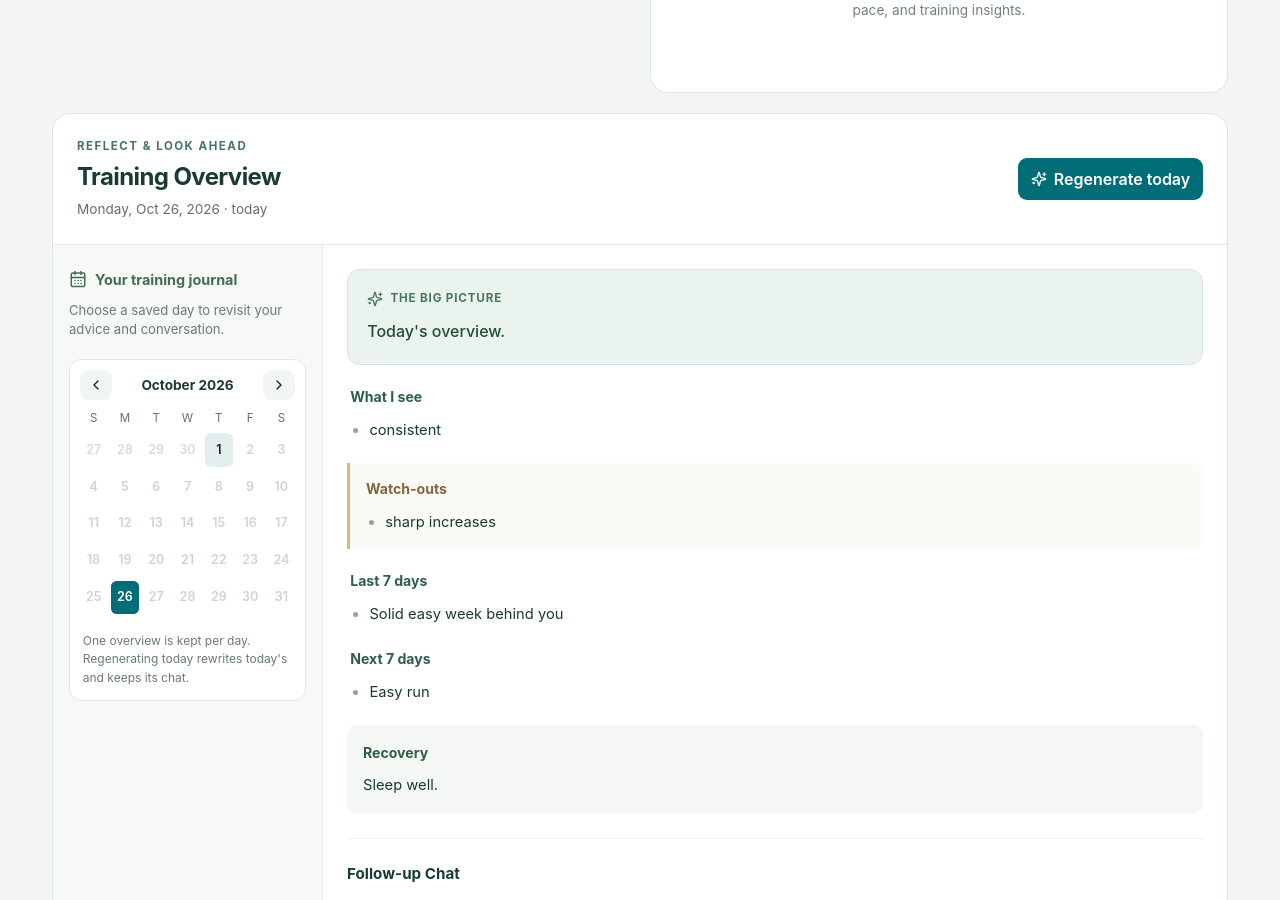
App › browses stored overviews by day and shows each day's saved chat
The image size is (1280, 900).
(page scrolled)
Expected: the text "Today's overview." is shown, [367,321,505,341]
Click the button "1".
click(219, 450)  # box [205,433,233,467]
(page scrolled)
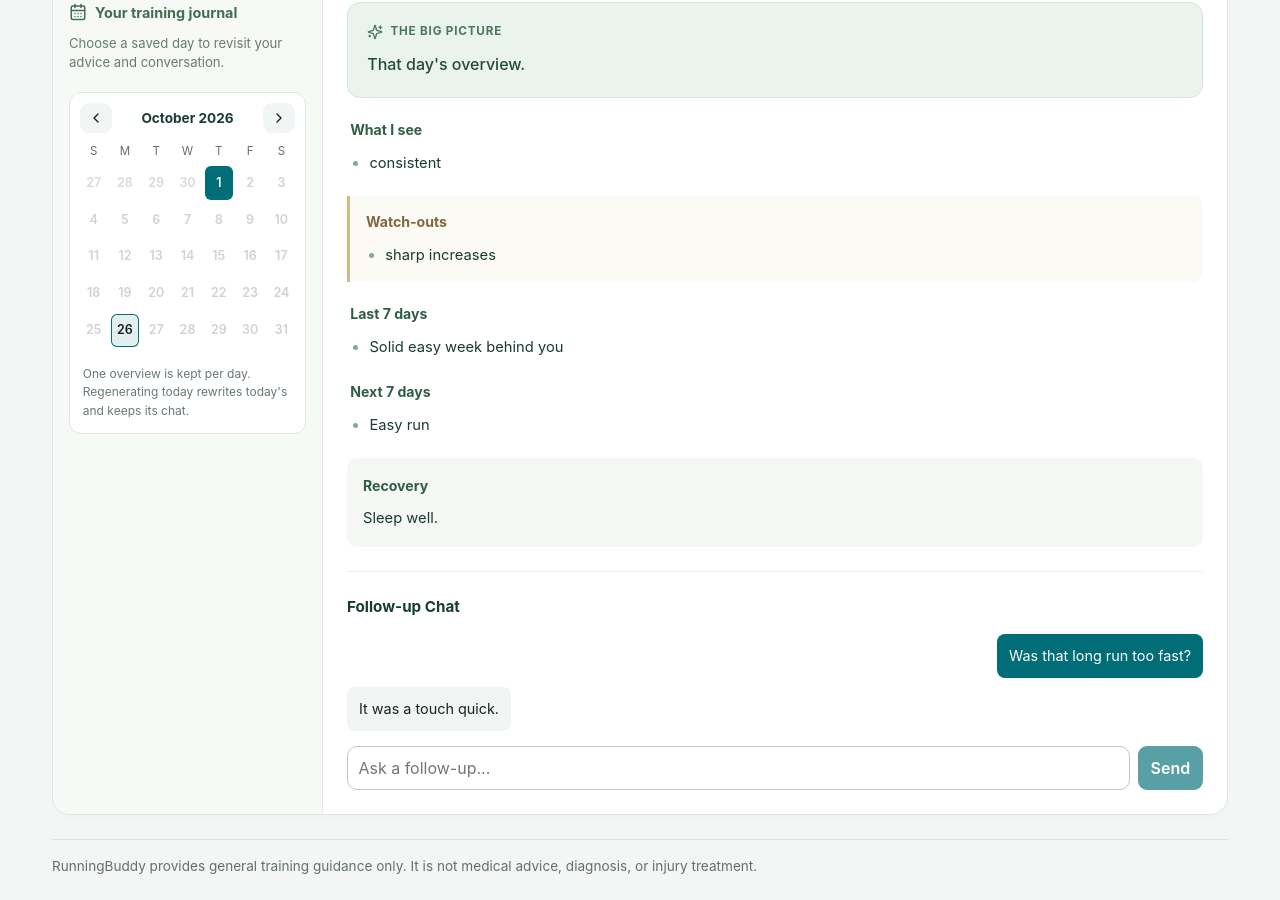
Expected: the text "That day's overview." is shown, [367,54,525,74]
Expected: the text "Was that long run too fast?" is shown, [997,634,1203,678]
Expected: the text "It was a touch quick." is shown, [347,687,511,731]
